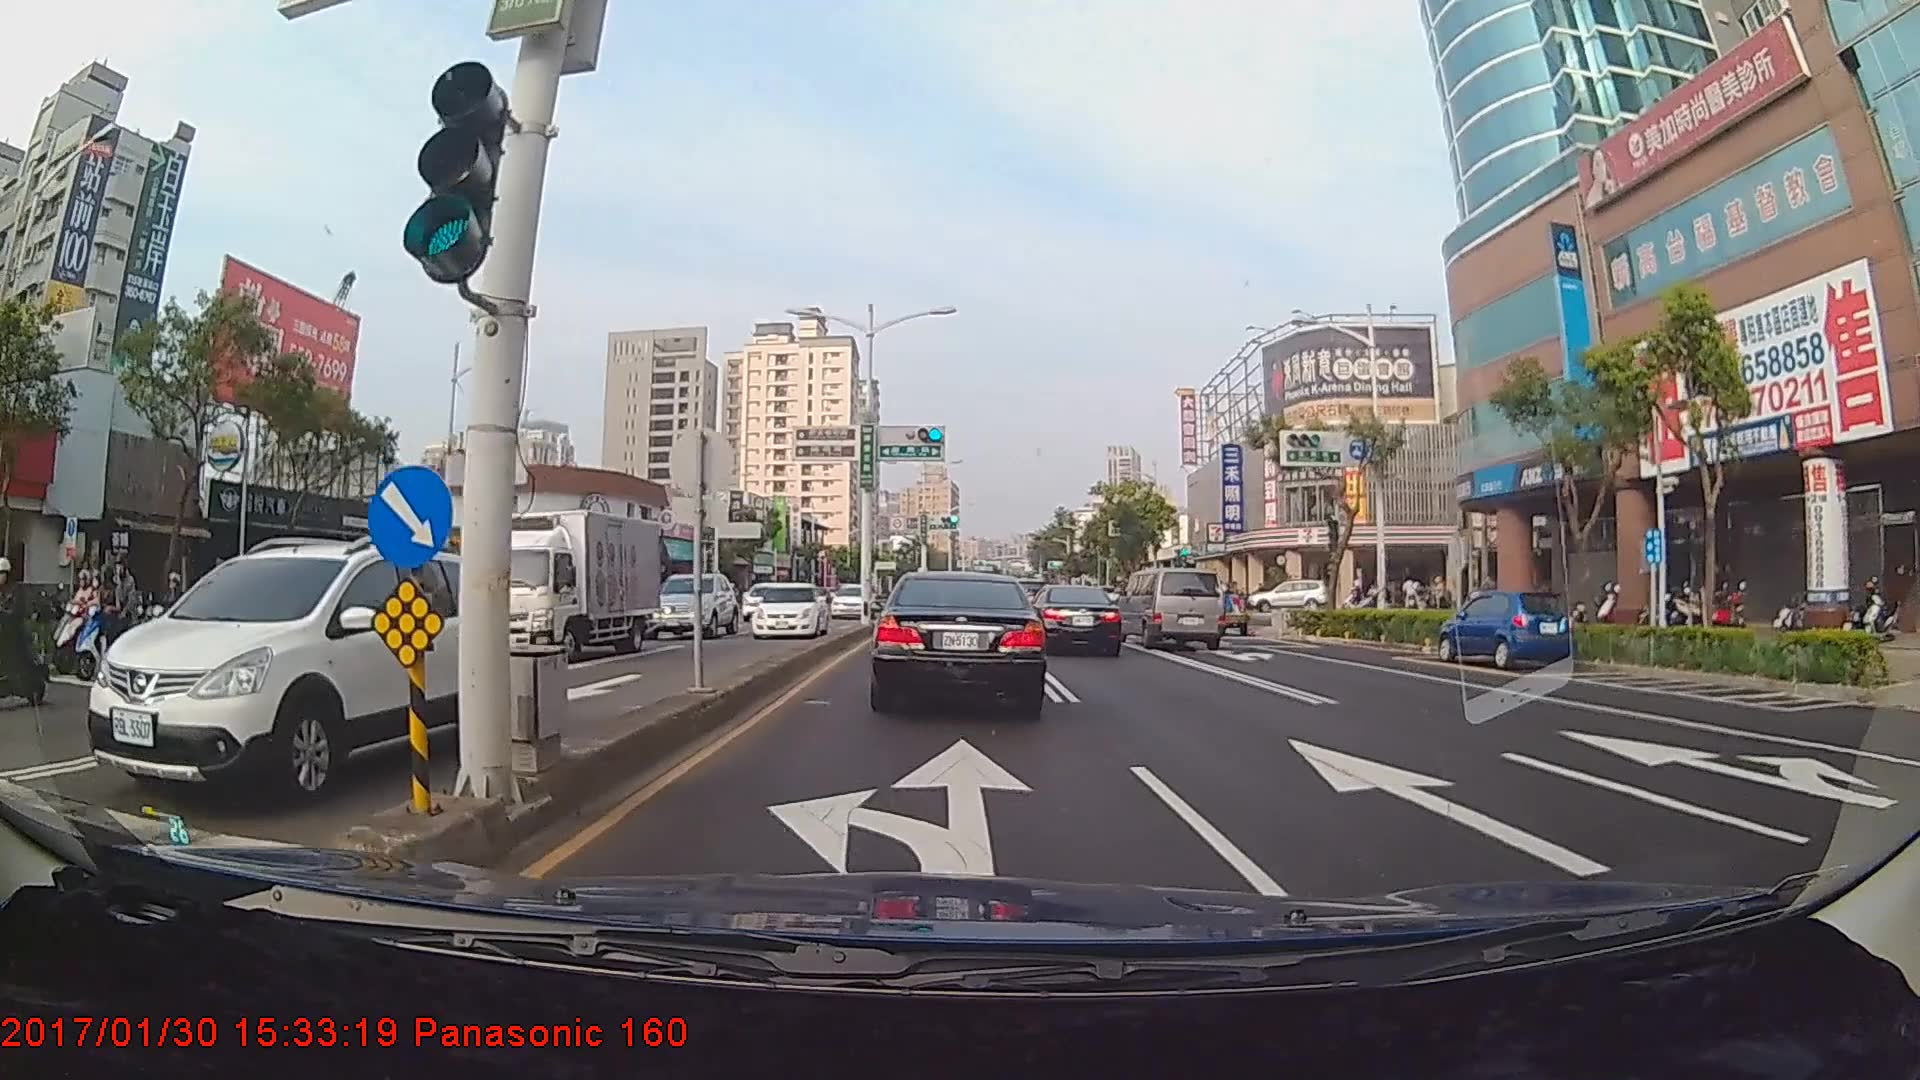rider: (67, 558, 153, 681)
vehicle: (86, 521, 515, 814), (477, 506, 660, 661), (873, 567, 1045, 714), (1434, 585, 1576, 671), (1117, 567, 1226, 651), (1029, 584, 1123, 656), (643, 569, 738, 637), (742, 575, 823, 639), (1248, 580, 1327, 614), (740, 581, 790, 619), (827, 578, 867, 620)
